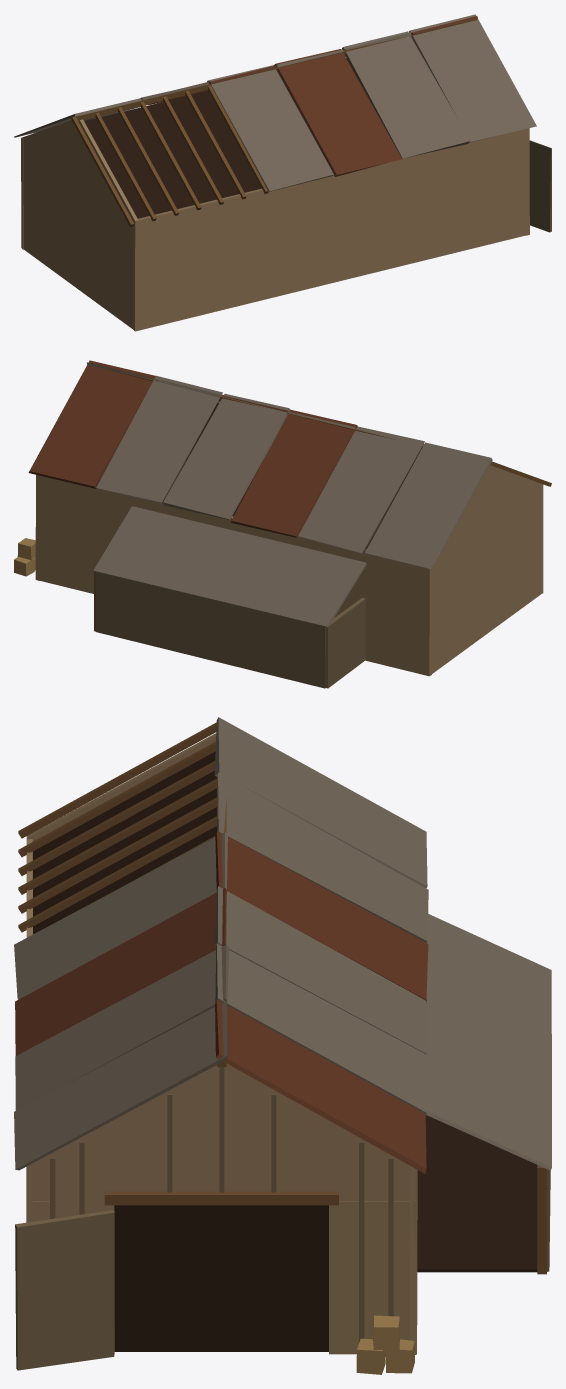
File: barn.glb
3 renders of one model, top to bottom at view 1: azimuth 30°, elevation 25°; view 2: azimuth 150°, elevation 25°; view 3: azimuth 270°, elevation 25°, orthographic. The views are drawn at different scales.
Parts seen in each view (by area): view 1: barn; view 2: barn; view 3: barn.
Part boxes in pixels (<box>): barn: <box>14,14,551,331</box>; barn: <box>14,360,551,688</box>; barn: <box>14,717,551,1374</box>.
Bounding box in the file's own units: 25.88 × 10.35 × 16.54.
